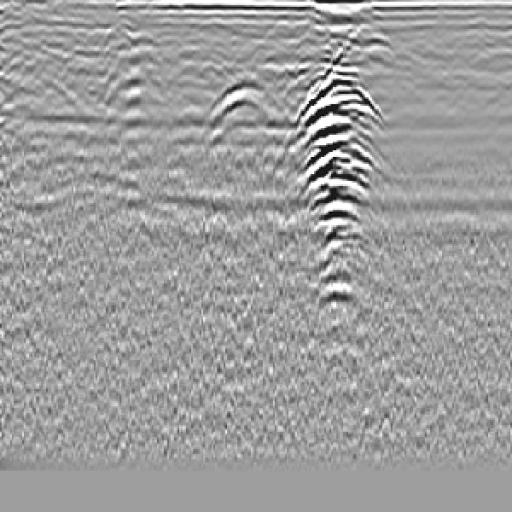metalic: (290, 57, 388, 301)
nonmetalic: (198, 62, 290, 164)
